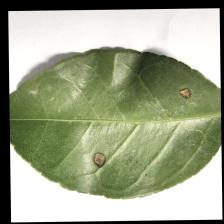canker: (77, 74, 195, 179)
